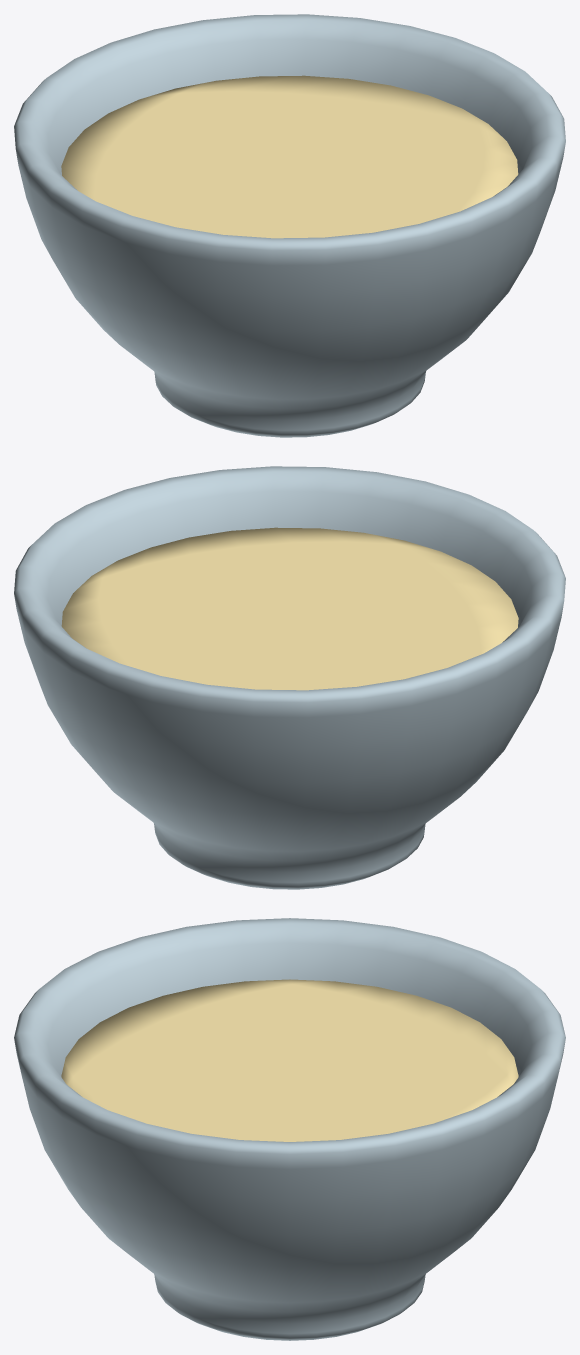
Rendered from DoughBowl.glb.
The picture shows the model from 3 angles, top to bottom: view 1: azimuth 30°, elevation 25°; view 2: azimuth 150°, elevation 25°; view 3: azimuth 270°, elevation 25°; orthographic projection.
Parts seen in each view (by area): view 1: Bowl, Dough; view 2: Bowl, Dough; view 3: Bowl, Dough.
Boxes of the visible parts, box(x1,y1,x2,y2) form: Bowl: box(14, 14, 565, 437); Dough: box(61, 75, 518, 238); Bowl: box(14, 466, 565, 889); Dough: box(61, 527, 518, 690); Bowl: box(14, 918, 565, 1340); Dough: box(61, 979, 518, 1141).
Size of the model in its own units: 2.24 by 1.16 by 2.24.
